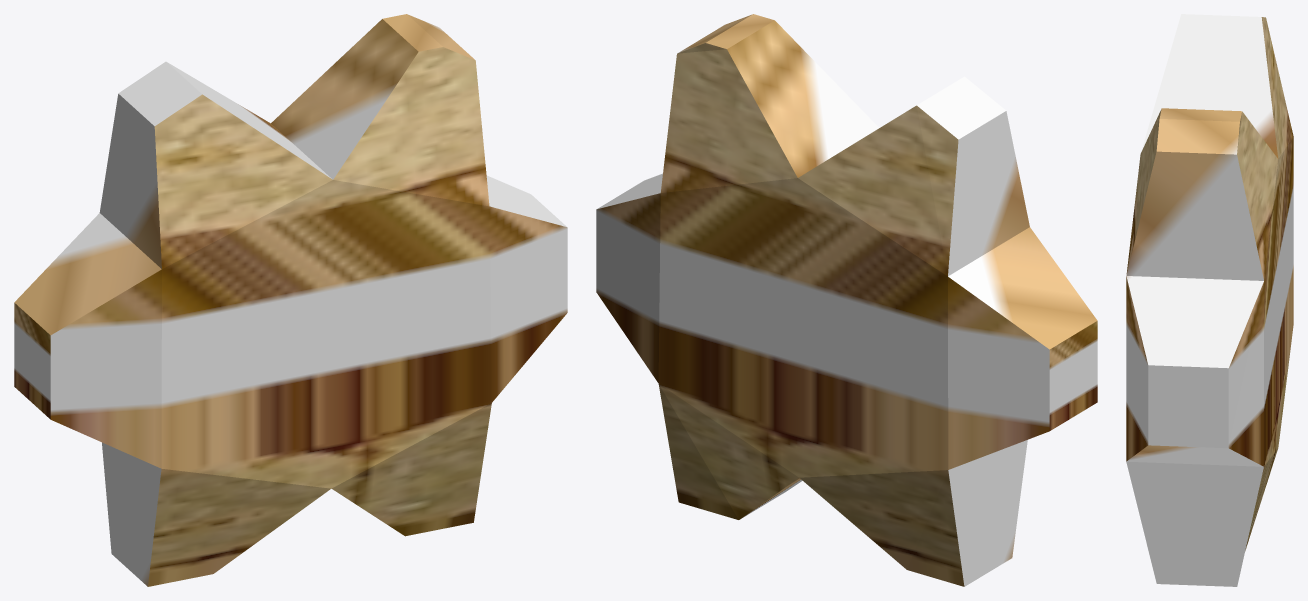
File: bullet_5.fbx
3 renders of one model, left to right at view 1: azimuth 30°, elevation 25°; view 2: azimuth 150°, elevation 25°; view 3: azimuth 270°, elevation 25°, orthographic. The views are drawn at different scales.
Visible parts, largest first — view 1: bullet_5; view 2: bullet_5; view 3: bullet_5.
Boxes of the visible parts, bbox=[...] form: bullet_5: bbox=[14, 14, 567, 586]; bullet_5: bbox=[596, 14, 1097, 586]; bullet_5: bbox=[1126, 14, 1293, 586].
Bounding box in the file's own units: 30.32 × 28 × 9.41.
